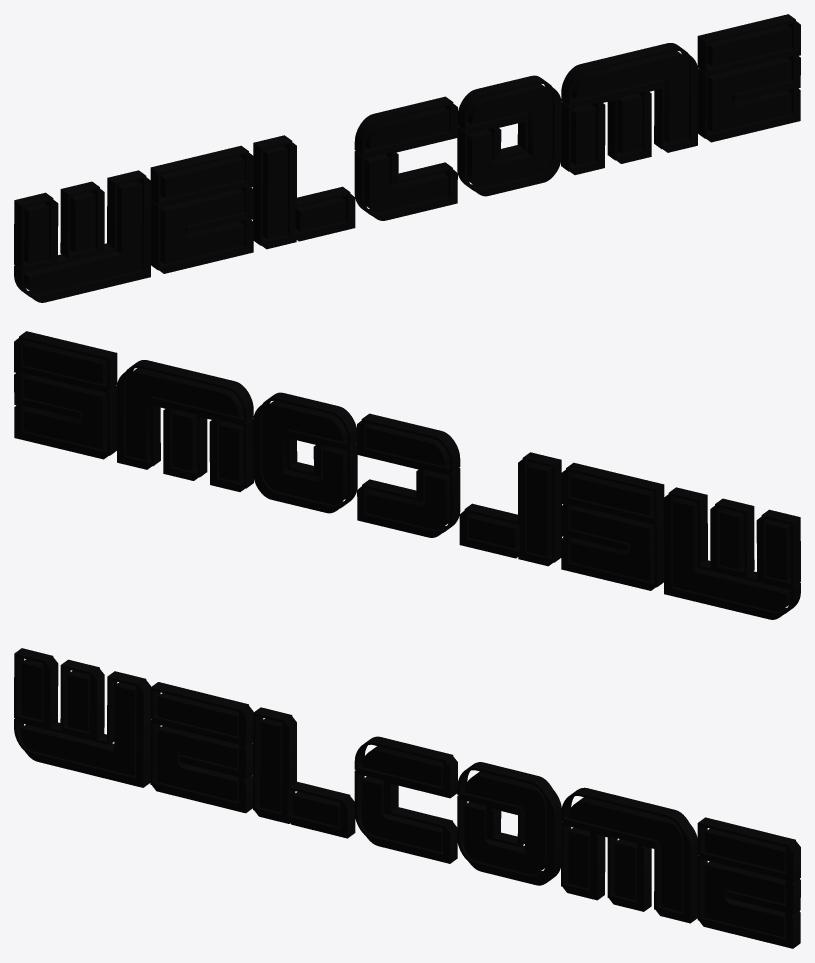
Rendered from Welcome.fbx.
3 views of the same model, one above another, from view 1: azimuth 30°, elevation 25°; view 2: azimuth 150°, elevation 25°; view 3: azimuth 330°, elevation 25° (orthographic).
Parts seen in each view (by area): view 1: node_id38; view 2: node_id38; view 3: node_id38.
Part boxes in pixels (x1,y1,x2,y2): node_id38: (14, 14, 800, 302); node_id38: (14, 331, 800, 619); node_id38: (14, 648, 800, 948).
Size of the model in its own units: 0.8881 by 0.1146 by 0.015.
Materials: 1 (1 with a texture image).
